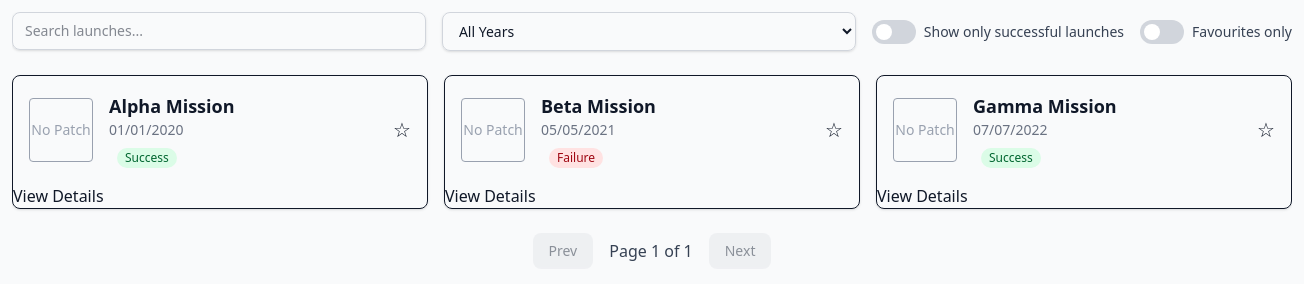
it: renders launches and filters by search
This screenshot has width=1304, height=284.
Expected: the heading "Alpha Mission" is shown, [109,94,234,118]
Expected: the heading "Beta Mission" is shown, [541,94,656,118]
# Type into search input
Type "Beta" into the field with placeholder "Search launches..." at (219, 31), box [12,12,426,50]
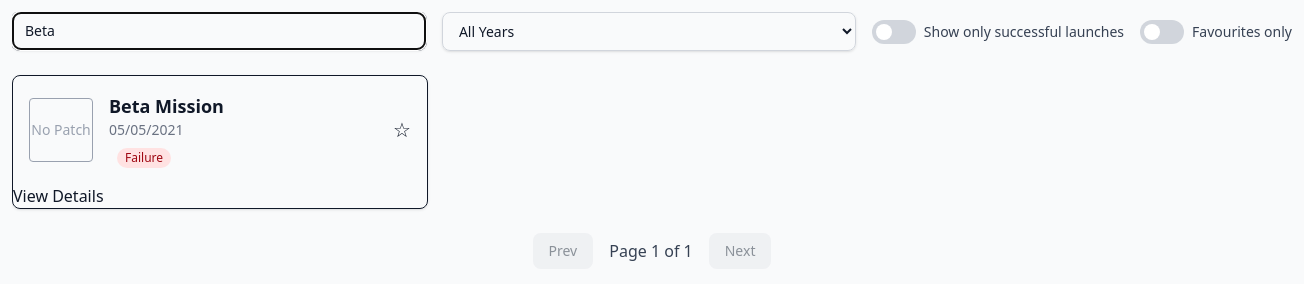
Expected: the heading "Beta Mission" is shown, [109,94,224,118]
Expected: the heading "Alpha Mission" is gone
